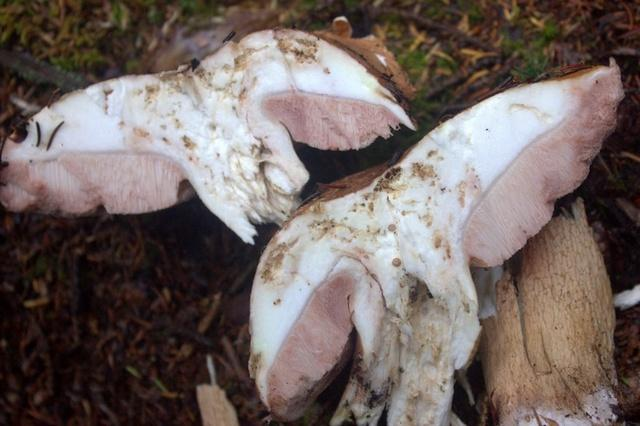poisonous_mushroom: (246, 56, 625, 424), (0, 15, 419, 245)
